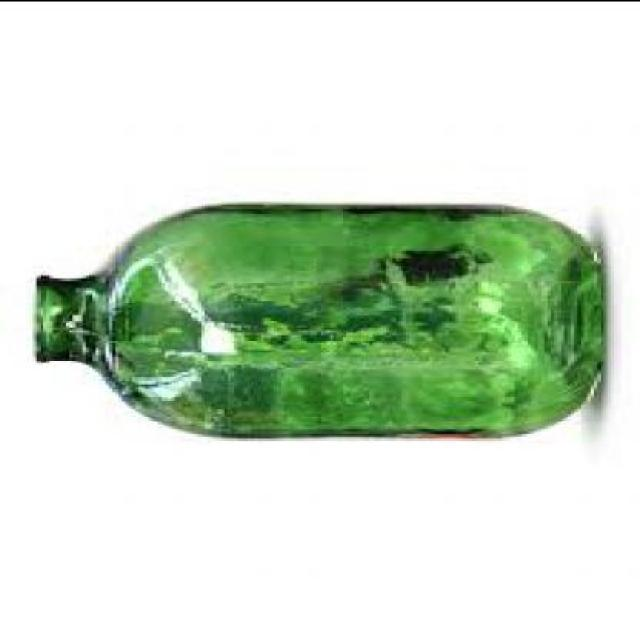GLASS: (34, 205, 597, 438)
